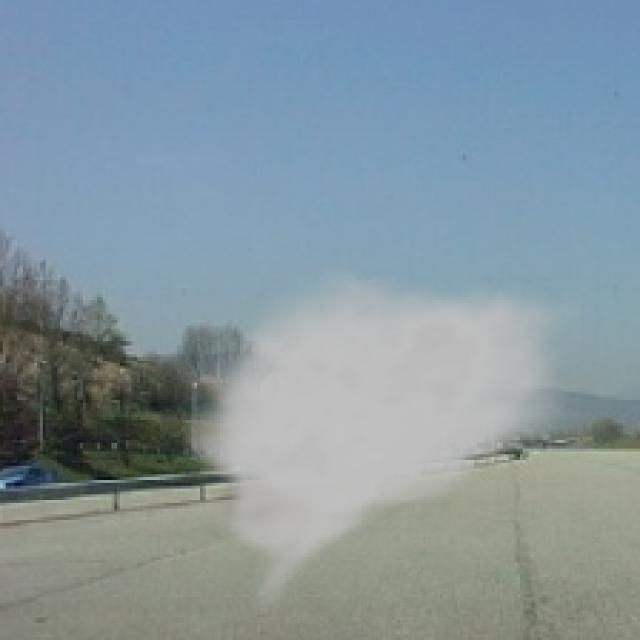smoke: (171, 269, 586, 620)
